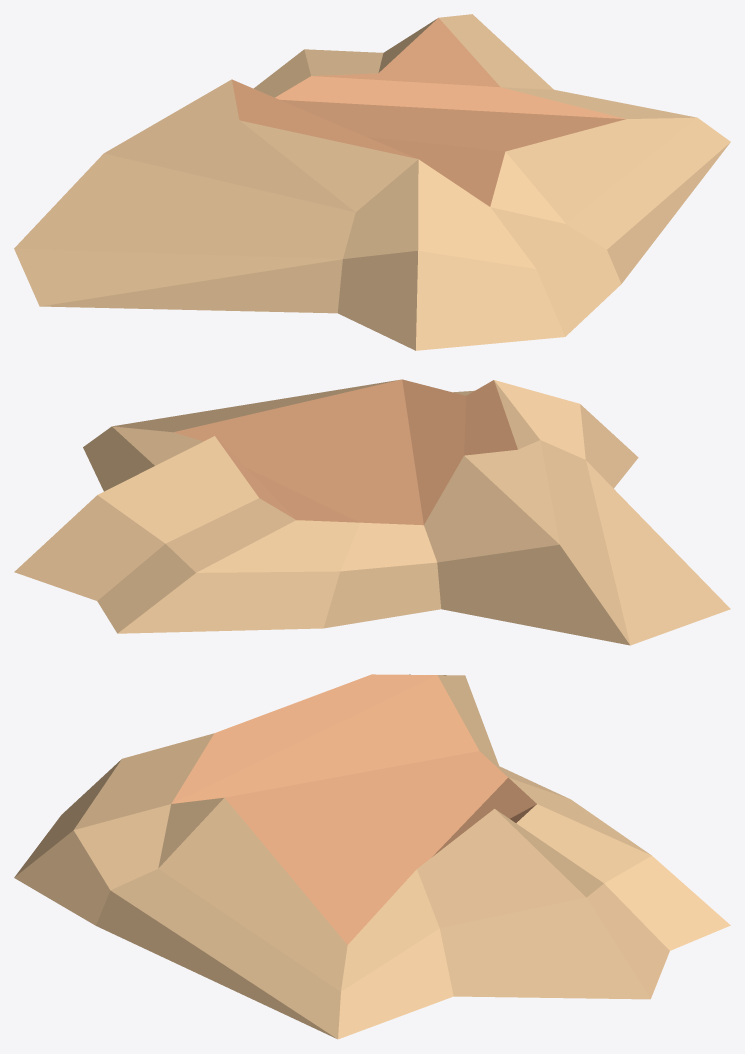
The model's file is Dead Tree 3.fbx.
The picture shows the model from 3 angles, top to bottom: view 1: azimuth 30°, elevation 25°; view 2: azimuth 150°, elevation 25°; view 3: azimuth 270°, elevation 25°; orthographic projection. The views are drawn at different scales.
Parts seen in each view (by area): view 1: Dead Tree 3; view 2: Dead Tree 3; view 3: Dead Tree 3.
Part boxes in pixels (bbox=[...]): Dead Tree 3: bbox=[14, 14, 730, 350]; Dead Tree 3: bbox=[14, 379, 730, 645]; Dead Tree 3: bbox=[14, 674, 730, 1039].
Bounding box in the file's own units: 121 × 22.94 × 107.
